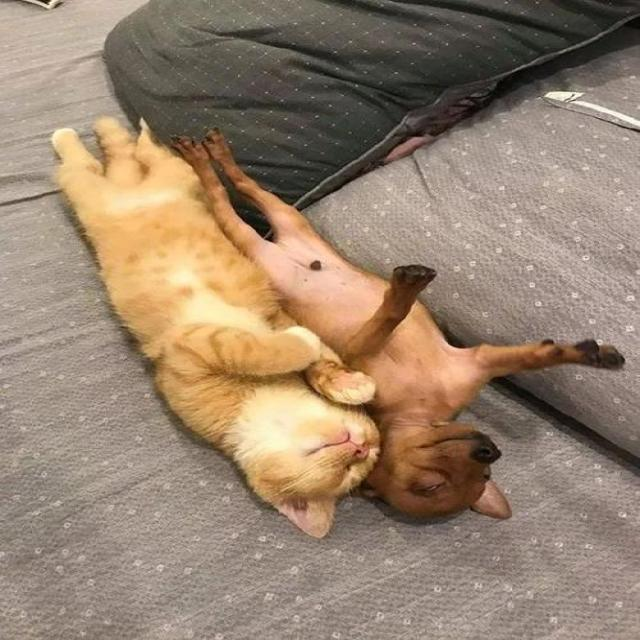cat: (179, 394, 399, 546)
dog: (369, 408, 538, 534)
